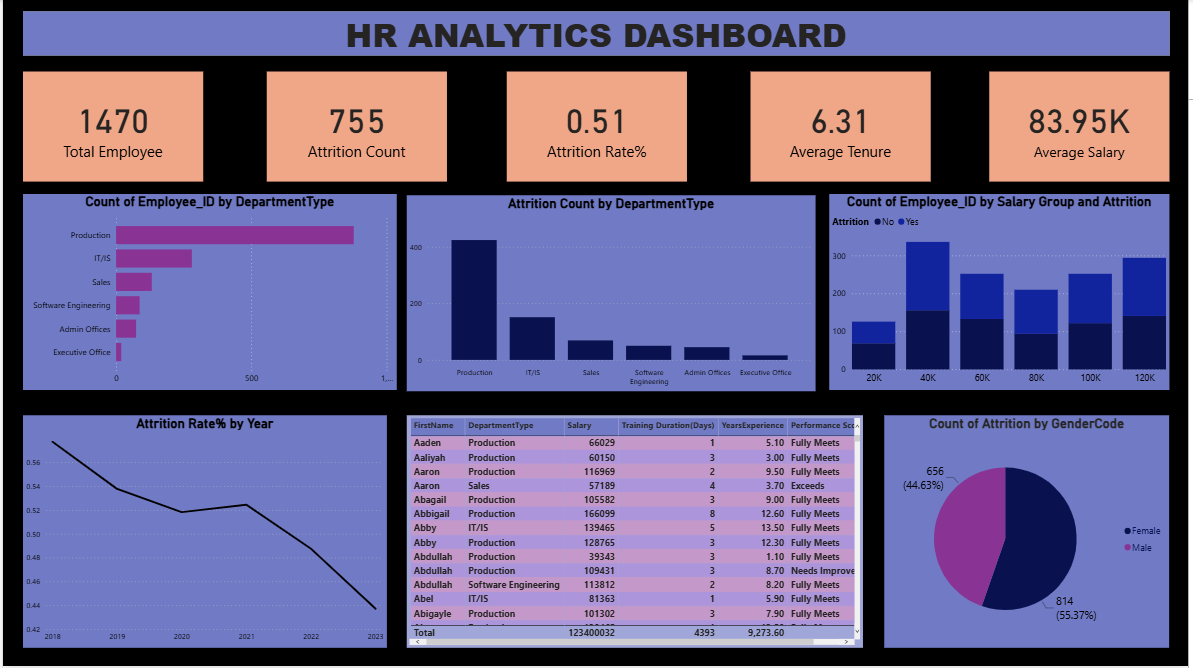

What the dashboard file says about the page in this screenshot:
{"tool":"powerbi","page":{"name":"Page 1","canvas":[1920,1080],"ordinal":0},"visuals":[{"type":"textbox","title":"HR ANALYTICS DASHBOARD","box":[32.4,20.3,1857.2,70.9],"z":0},{"type":"textbox","box":[32.4,117.5,291.6,178.2],"z":1000},{"type":"textbox","box":[427.3,117.5,291.6,178.2],"z":2000},{"type":"textbox","box":[816.2,117.5,291.6,178.2],"z":3000},{"type":"textbox","box":[1211.1,117.5,291.6,178.2],"z":4000},{"type":"textbox","box":[1598,117.5,291.6,178.2],"z":5000},{"type":"card","fields":{"Values":["Attrition.Total Employee"]},"box":[32.4,117.5,291.6,178.2],"z":6000},{"type":"card","fields":{"Values":["Attrition.Attrition Count"]},"box":[427.3,117.5,291.6,178.2],"z":7000},{"type":"card","fields":{"Values":["Attrition.Attrition Rate%"]},"box":[816.2,117.5,291.6,178.2],"z":8000},{"type":"card","fields":{"Values":["Attrition.Average Tenure"]},"box":[1211.1,117.5,291.6,178.2],"z":9000},{"type":"card","fields":{"Values":["Attrition.Average Salary"]},"box":[1598,117.5,291.6,178.2],"z":10000},{"type":"barChart","fields":{"Y":["CountNonNull(Employee.EmpIoyee_ID)"],"Category":["Employee.DepartmentType"]},"box":[32.4,315.9,605.6,318],"z":11000},{"type":"clusteredColumnChart","fields":{"Category":["Employee.DepartmentType"],"Y":["Attrition.Attrition Count"]},"box":[654.2,318,662.3,318],"z":12000},{"type":"lineChart","fields":{"Category":["Employee.HireDate.Variation.Date Hierarchy.Year"],"Y":["Attrition.Attrition Rate%"]},"box":[32.4,674.4,589.4,376.7],"z":13000},{"type":"tableEx","fields":{"Values":["Employee.FirstName","Employee.DepartmentType","Sum(Salary.Salary)","Sum(Training.Training Duration(Days))","Sum(Salary.YearsExperience)","Employee.Performance Score"]},"box":[654.2,674.4,739.2,376.7],"z":14000},{"type":"pieChart","fields":{"Category":["Employee.GenderCode"],"Y":["CountNonNull(Attrition.Attrition)"]},"box":[1427.8,674.4,461.8,376.7],"z":15000},{"type":"columnChart","fields":{"Category":["Salary.Salary Group"],"Y":["CountNonNull(Employee.EmpIoyee_ID)"],"Series":["Attrition.Attrition"]},"box":[1338.7,315.9,550.9,318],"z":16000}]}

Visuals, with their boxes in screenshot pixels (x1, y1, x2, y2), scaled from the page's 1920x1080 canvas onto the 1193x668 screenshot:
"HR ANALYTICS DASHBOARD" textbox: 20 13 1174 56
textbox: 20 73 201 183
textbox: 266 73 447 183
textbox: 507 73 688 183
textbox: 753 73 934 183
textbox: 993 73 1174 183
card - Attrition.Total Employee: 20 73 201 183
card - Attrition.Attrition Count: 266 73 447 183
card - Attrition.Attrition Rate%: 507 73 688 183
card - Attrition.Average Tenure: 753 73 934 183
card - Attrition.Average Salary: 993 73 1174 183
barChart - CountNonNull(Employee.EmpIoyee_ID) x Employee.DepartmentType: 20 195 396 392
clusteredColumnChart - Employee.DepartmentType x Attrition.Attrition Count: 406 197 818 393
lineChart - Employee.HireDate.Variation.Date Hierarchy.Year x Attrition.Attrition Rate%: 20 417 386 650
tableEx - Employee.FirstName x Employee.DepartmentType: 406 417 866 650
pieChart - Employee.GenderCode x CountNonNull(Attrition.Attrition): 887 417 1174 650
columnChart - Salary.Salary Group x CountNonNull(Employee.EmpIoyee_ID): 832 195 1174 392
